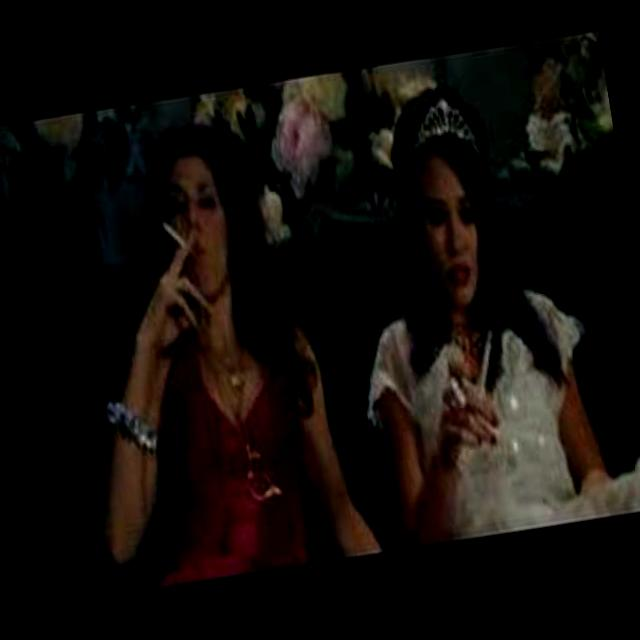cigarette: (154, 212, 184, 252)
